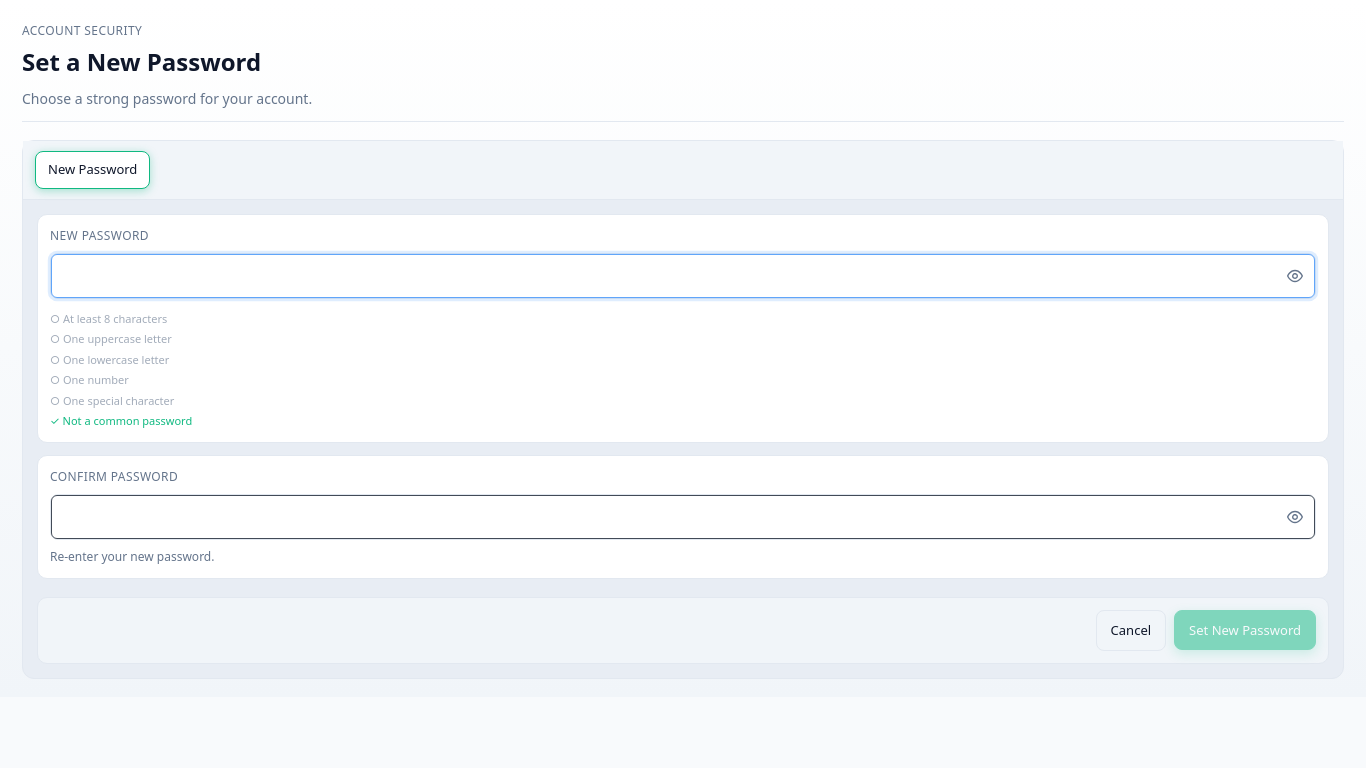
Test: ResetPassword › token mode submission › shows success state after a successful reset
The width and height of the screenshot is (1366, 768).
Type "Str0ng!Pass" into the password field with placeholder "Create a strong password" at (683, 276), box [51, 254, 1315, 298]
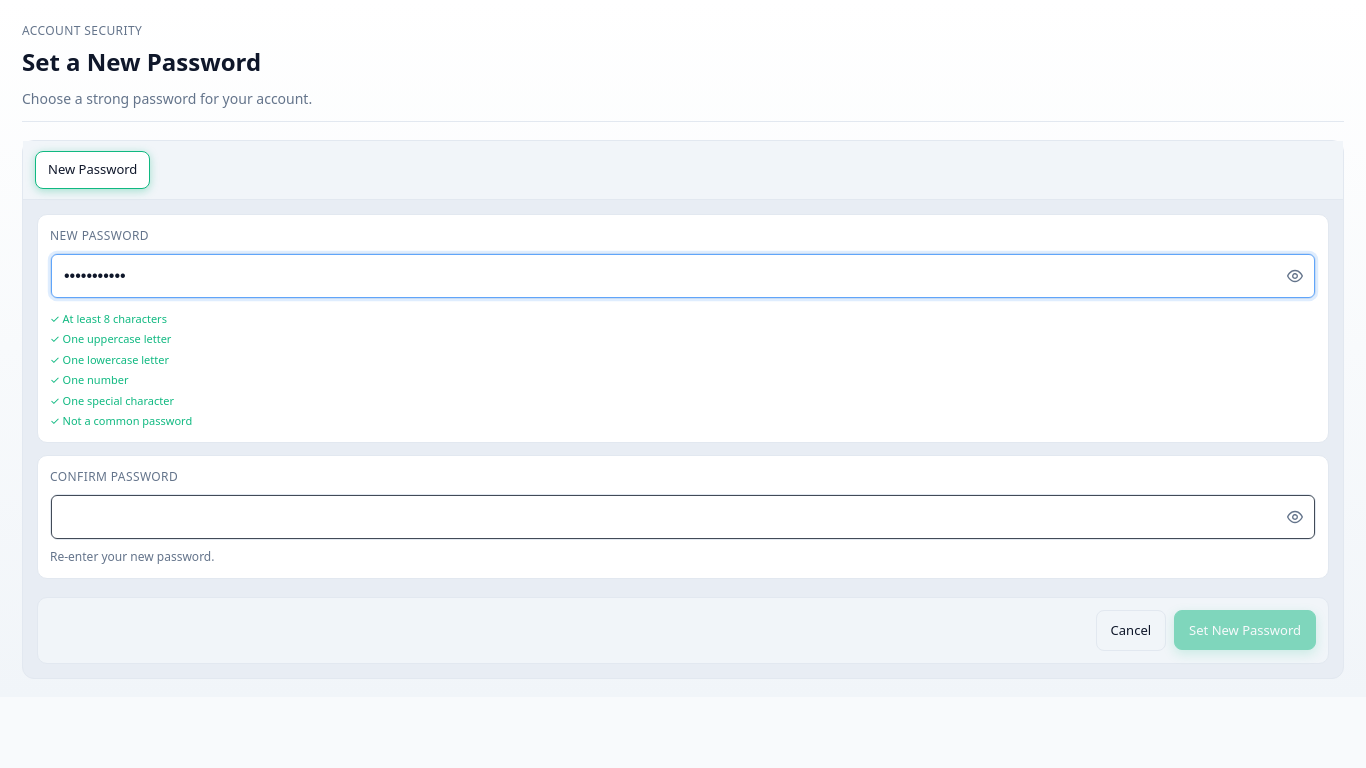
Type "Str0ng!Pass" into the password field with placeholder "Confirm your new password" at (683, 516), box [51, 494, 1315, 538]
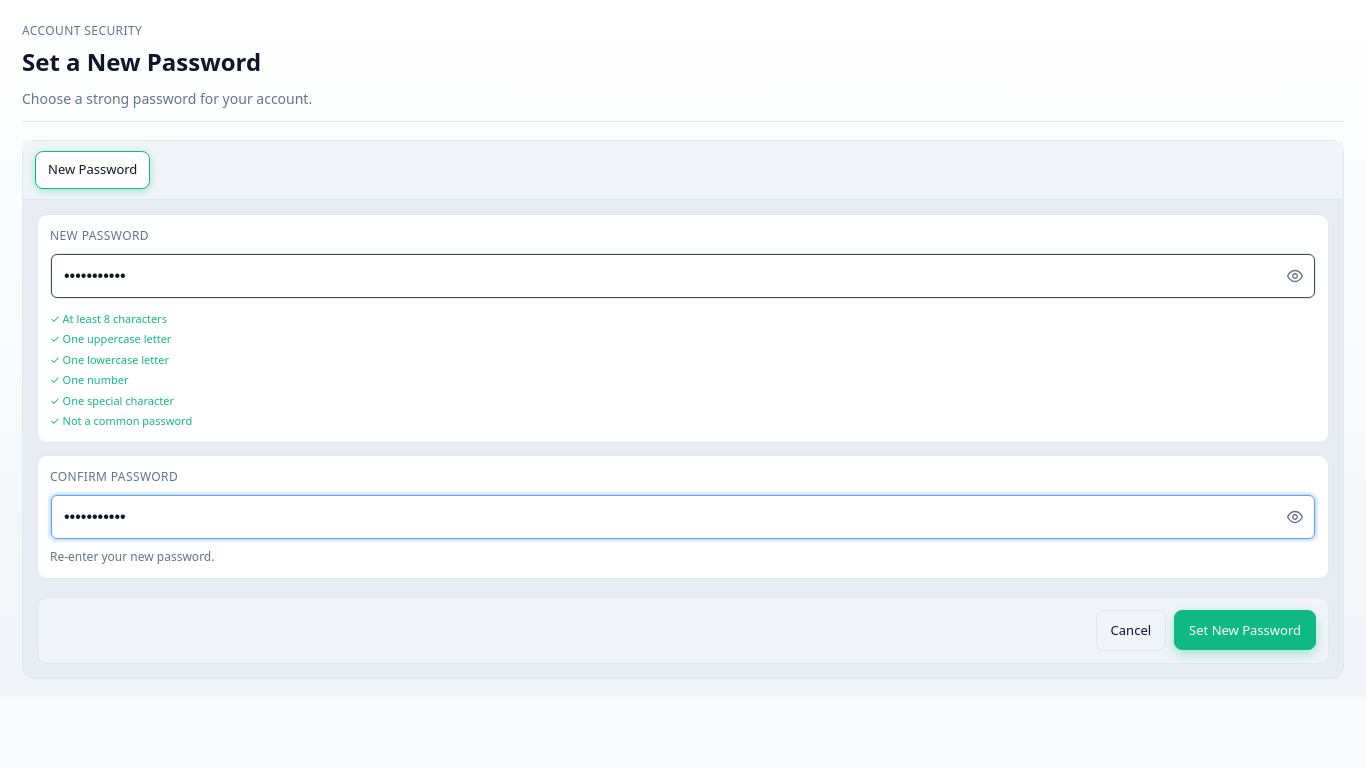
Click the button "Set New Password" at (1245, 630), box [1174, 610, 1316, 650]
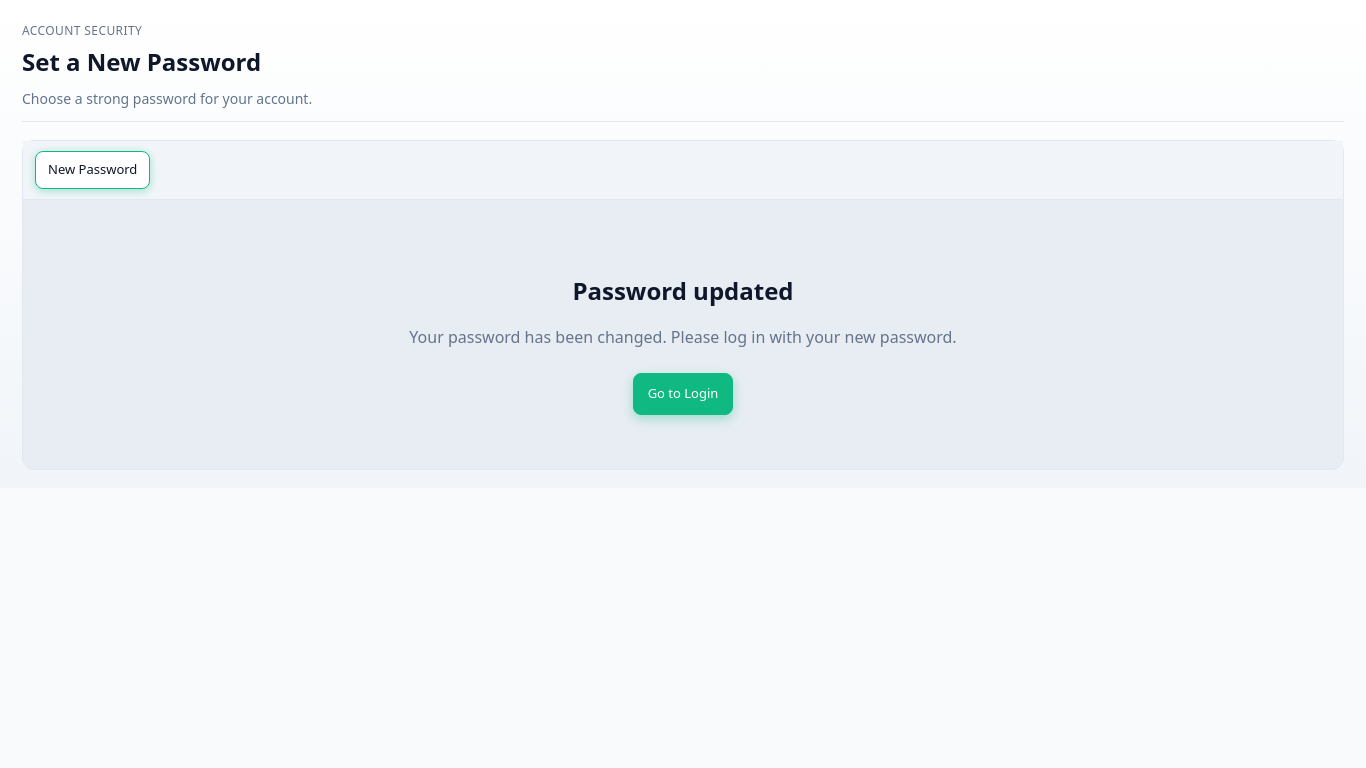
Expected: the heading "Password updated" is shown, [572, 274, 794, 307]
